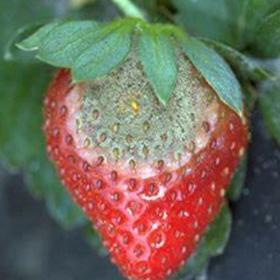Gray Mold: (64, 32, 228, 180)
